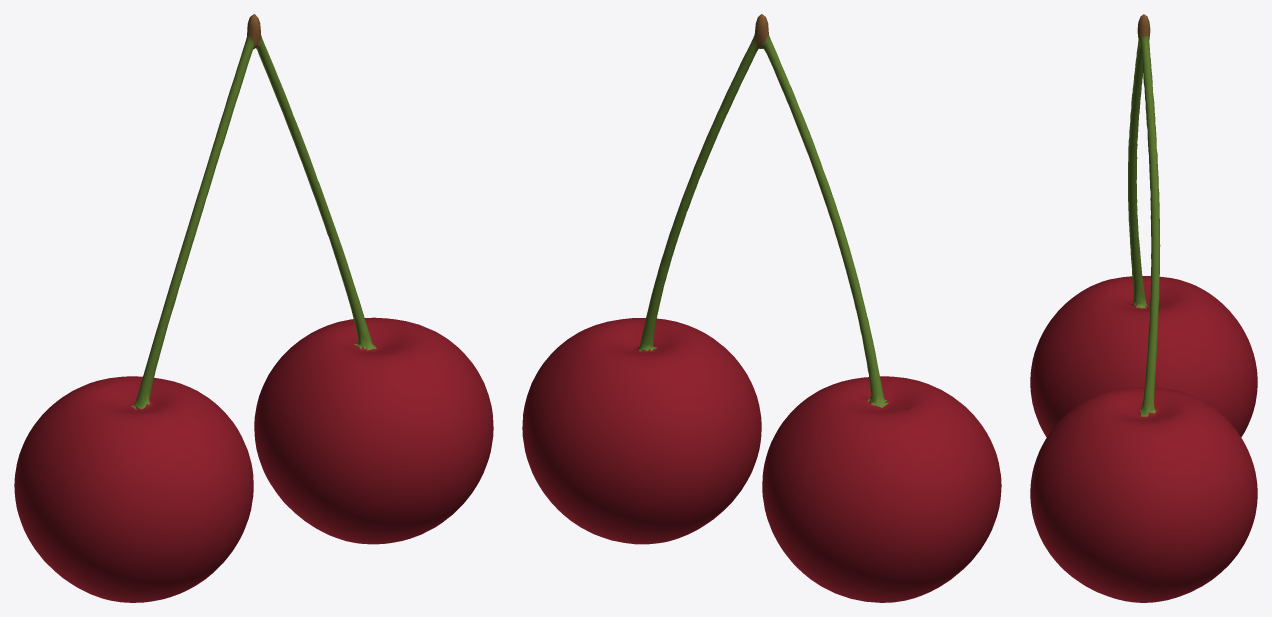
3 views of the same model, side by side, from view 1: azimuth 30°, elevation 25°; view 2: azimuth 150°, elevation 25°; view 3: azimuth 270°, elevation 25° (orthographic). The views are drawn at different scales.
Parts seen in each view (by area): view 1: Complete joined-stem cherry pair; view 2: Complete joined-stem cherry pair; view 3: Complete joined-stem cherry pair.
Boxes of the visible parts, x1,y1,x2,y2 form: Complete joined-stem cherry pair: (14, 14, 493, 602); Complete joined-stem cherry pair: (522, 14, 1001, 602); Complete joined-stem cherry pair: (1030, 14, 1257, 602).
Bounding box in the file's own units: 0.0634 × 0.0743 × 0.0294.
